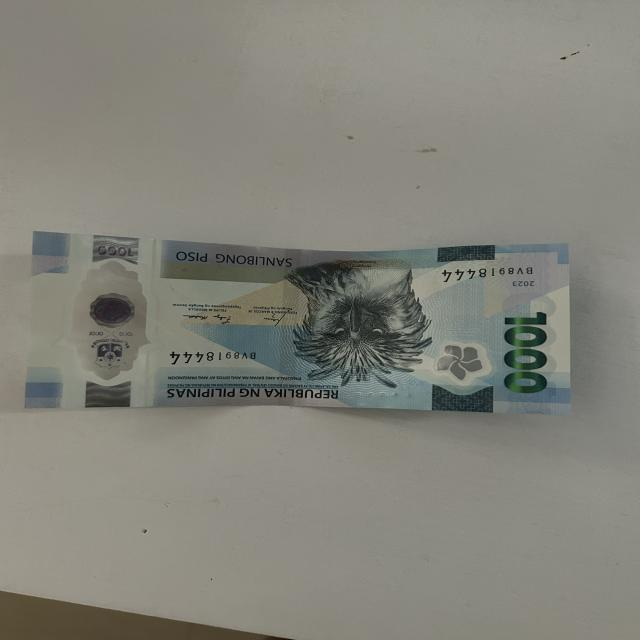clear_window: (75, 256, 151, 385)
eagle: (298, 266, 424, 388)
sampaguita: (437, 341, 488, 384)
security_thread: (279, 248, 298, 406)
serial_number: (161, 347, 276, 365), (437, 267, 542, 284)
value: (492, 306, 553, 401)
